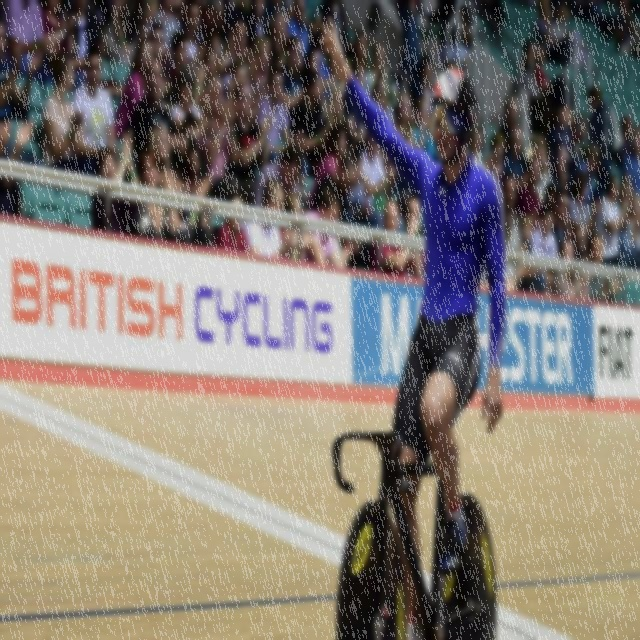pessoa: (318, 15, 511, 639), (96, 0, 440, 151), (497, 36, 621, 232), (124, 57, 180, 184), (41, 51, 94, 176), (0, 17, 44, 166), (72, 42, 116, 178), (90, 128, 141, 235), (200, 73, 240, 201), (256, 65, 306, 166), (2, 0, 58, 90), (224, 82, 273, 182), (290, 70, 333, 181), (131, 147, 179, 243), (304, 186, 357, 270), (370, 199, 422, 279), (239, 176, 286, 260), (168, 162, 210, 249), (254, 144, 306, 214), (552, 0, 596, 79), (170, 110, 210, 196), (536, 0, 581, 72), (575, 232, 621, 302), (66, 0, 100, 93), (440, 0, 481, 70), (502, 176, 526, 292), (278, 190, 316, 262), (530, 202, 560, 291), (347, 147, 379, 228), (516, 214, 546, 294), (398, 195, 426, 280), (554, 236, 590, 301), (212, 195, 252, 252), (316, 122, 348, 190), (611, 0, 640, 72), (170, 66, 204, 125), (620, 178, 640, 270), (41, 0, 71, 58), (551, 192, 576, 259), (622, 126, 640, 196), (614, 115, 637, 161), (484, 132, 506, 180), (468, 127, 484, 161)
